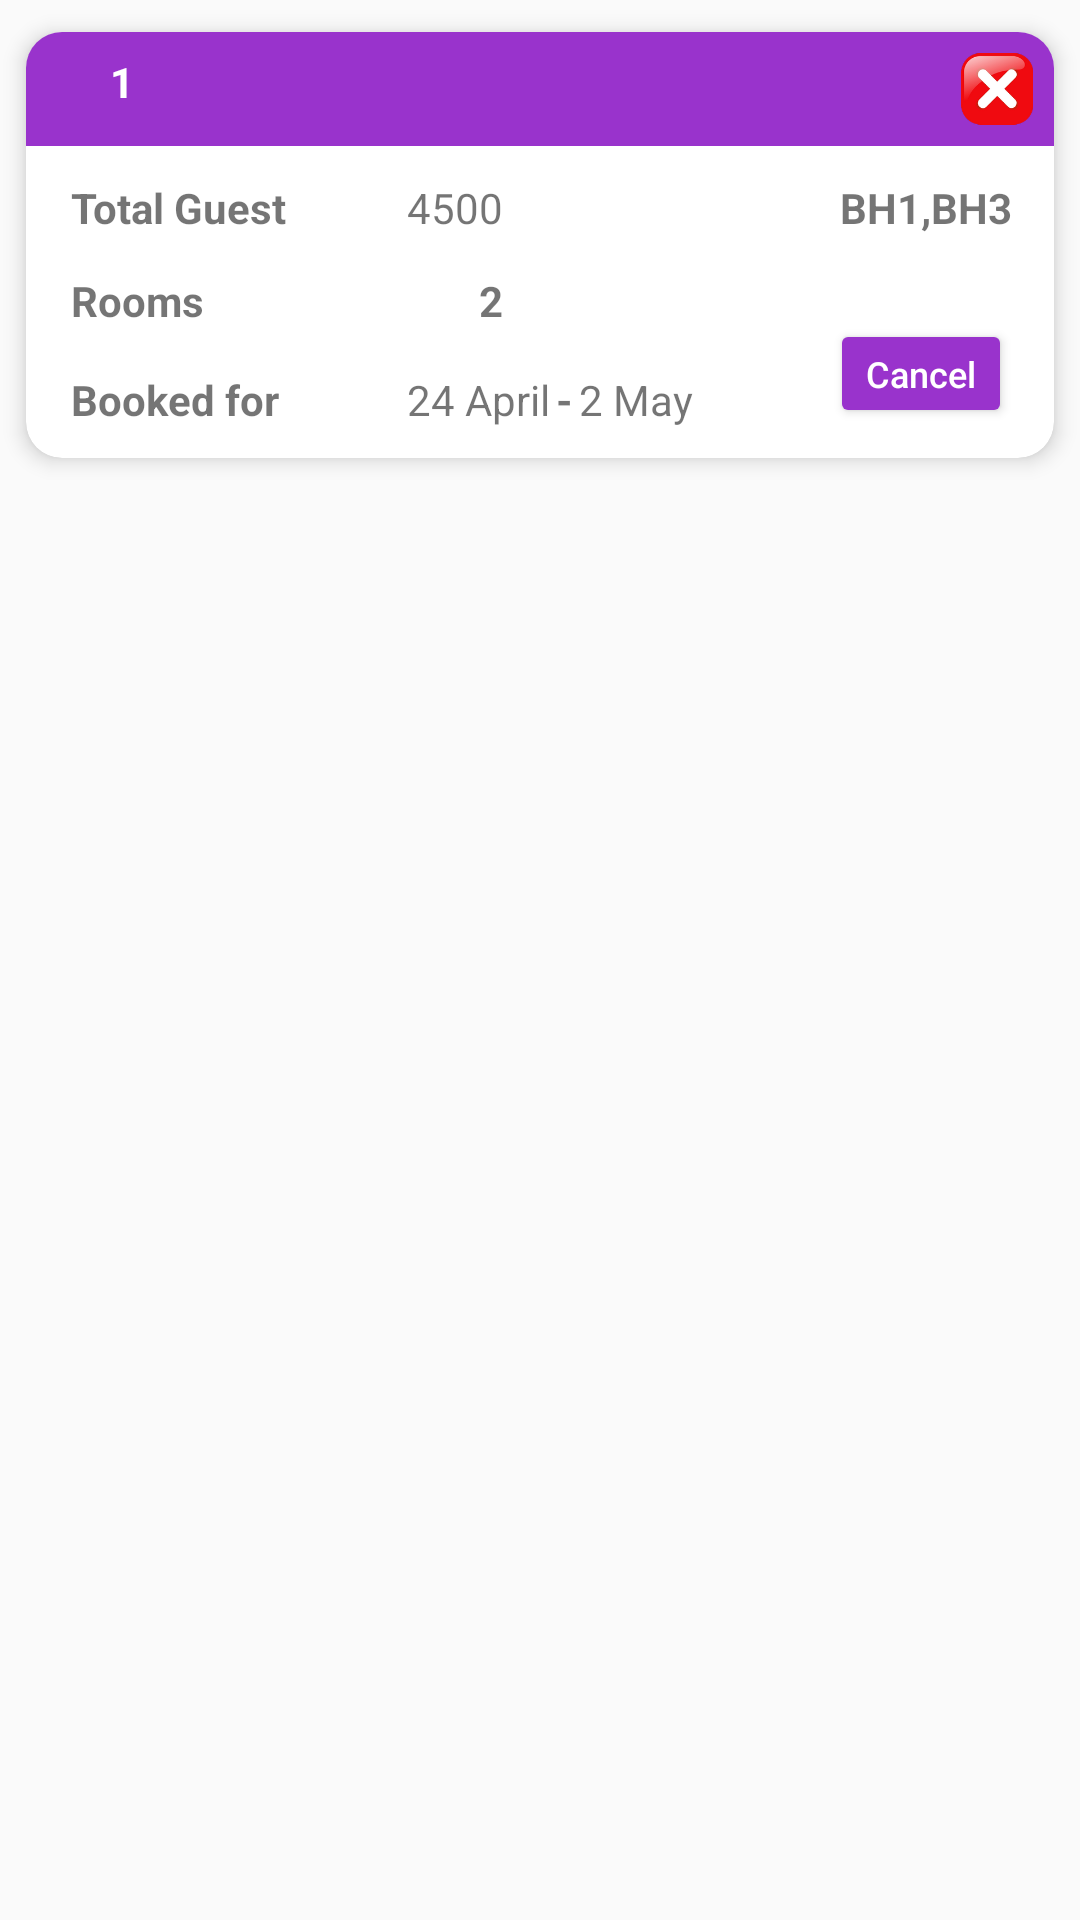

Icon bounding boxes for this 1080 x 1920 phone screenshot, format (x1, y1, x2, y2):
close: (961, 53, 1033, 125)
